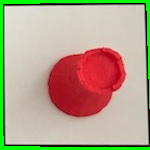Red Castle: (42, 42, 128, 123)
